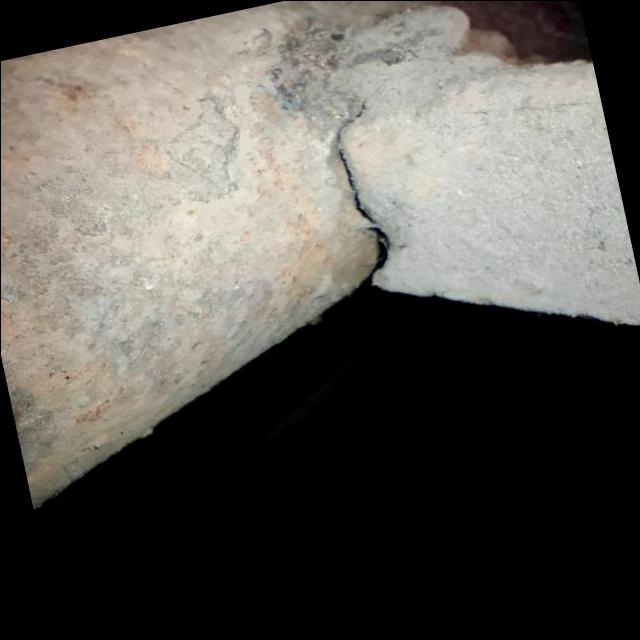defect: (333, 100, 394, 288)
